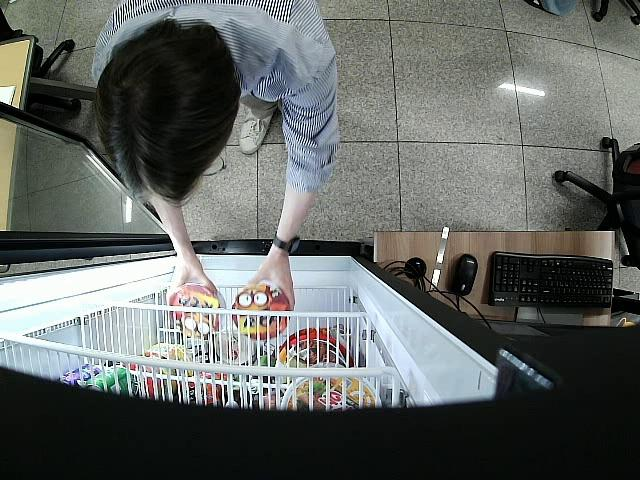00_hand: (245, 256, 297, 312), (165, 255, 218, 307)
05_nuguri_L: (230, 283, 287, 339), (169, 281, 220, 343)
